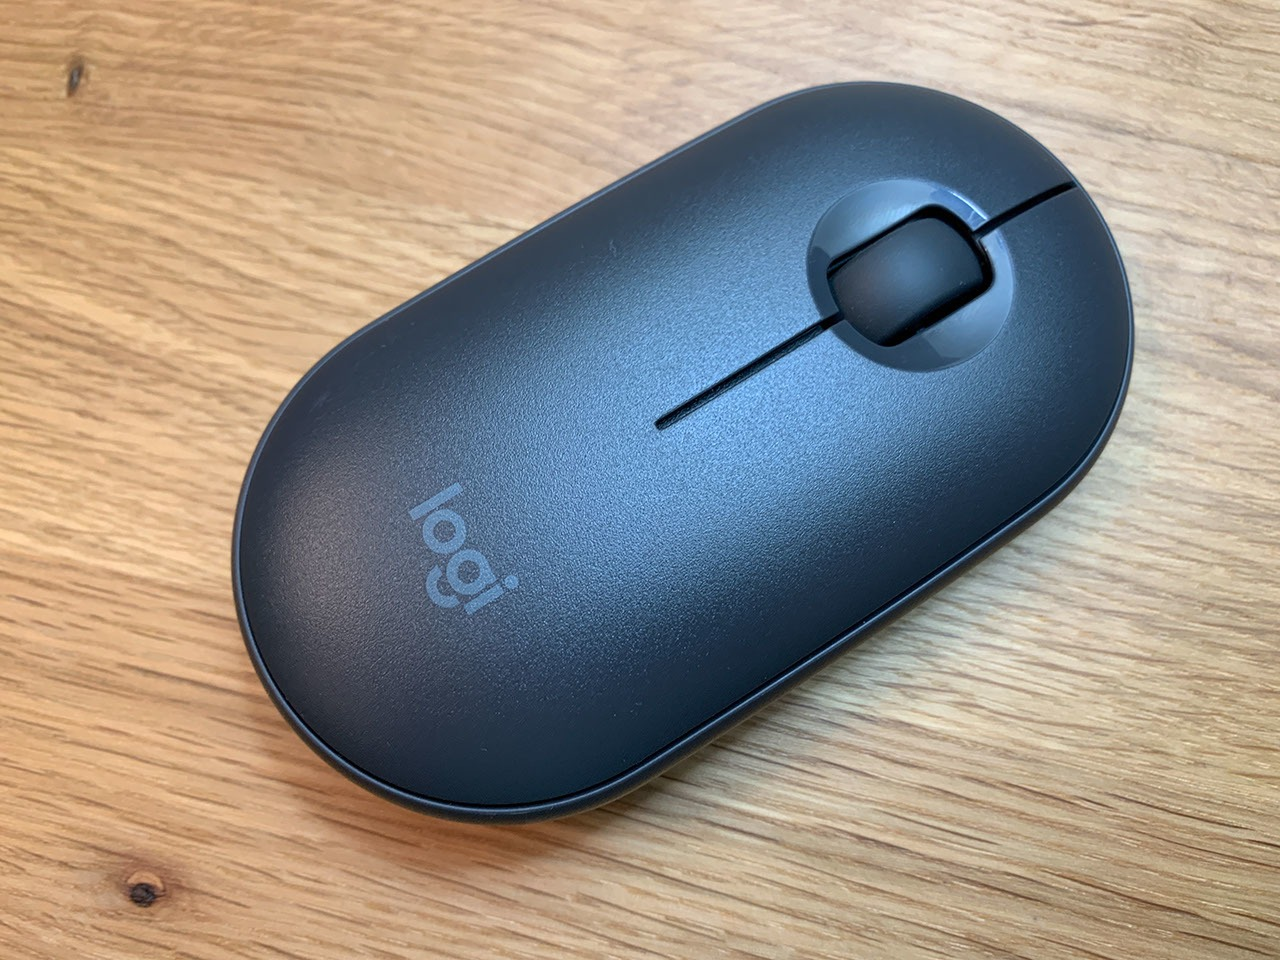mouse: (209, 73, 1140, 840)
